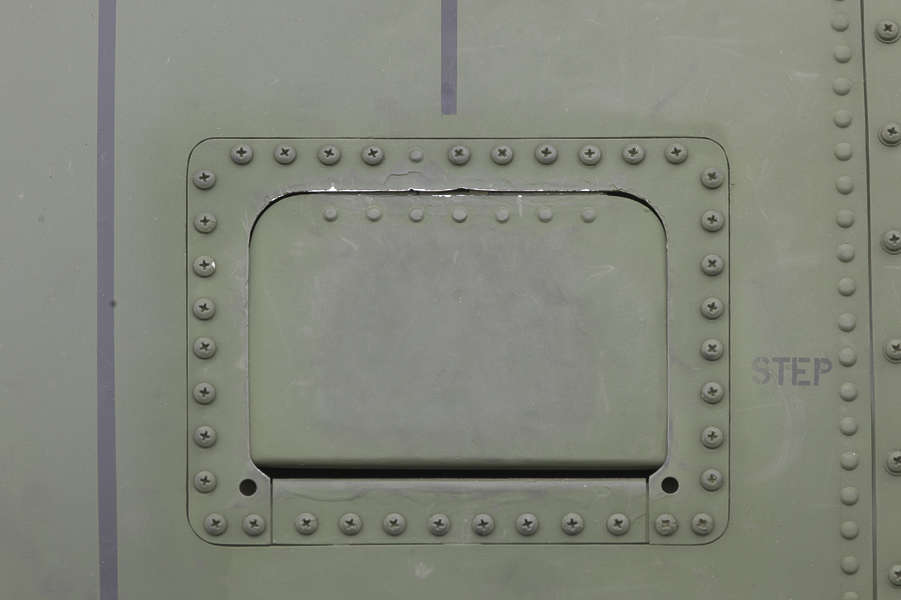hole: (660, 476, 681, 497), (238, 478, 258, 498)
rivet: (839, 450, 860, 472), (836, 276, 857, 297), (835, 208, 856, 229), (835, 175, 856, 196), (831, 76, 852, 97), (832, 142, 854, 162), (840, 486, 861, 506), (838, 382, 859, 402), (838, 348, 859, 368), (841, 555, 861, 575), (840, 520, 860, 539), (839, 418, 859, 437), (838, 313, 857, 333), (836, 243, 855, 263), (832, 110, 852, 129), (833, 46, 853, 65), (830, 17, 851, 34), (408, 206, 426, 224), (580, 207, 598, 223), (450, 207, 468, 223), (407, 148, 425, 163), (537, 208, 554, 223), (366, 207, 382, 222), (323, 206, 338, 222), (493, 209, 510, 223)
screw: (873, 19, 900, 46), (382, 511, 409, 538), (560, 511, 586, 538), (699, 467, 725, 493), (446, 143, 473, 168), (689, 512, 716, 537), (338, 511, 363, 538), (294, 511, 321, 536), (697, 338, 725, 362), (605, 511, 631, 536), (203, 511, 228, 537), (698, 381, 725, 405), (192, 336, 219, 360), (578, 143, 603, 168), (700, 296, 725, 321), (471, 512, 496, 537), (653, 513, 679, 537), (194, 470, 220, 494), (192, 297, 218, 321), (881, 227, 901, 257), (318, 143, 343, 167), (700, 425, 724, 450), (515, 512, 539, 537), (193, 381, 218, 405), (193, 255, 218, 279), (488, 144, 514, 167), (621, 143, 647, 166), (663, 142, 689, 165), (535, 143, 559, 167), (242, 512, 266, 536), (194, 425, 218, 449), (274, 143, 298, 167), (230, 142, 254, 166), (878, 121, 901, 146), (699, 167, 724, 190), (700, 254, 725, 277), (428, 512, 451, 537), (701, 209, 724, 233), (362, 144, 385, 167), (194, 213, 219, 234), (193, 170, 217, 191), (884, 337, 901, 364), (885, 448, 901, 475), (887, 562, 901, 588)
